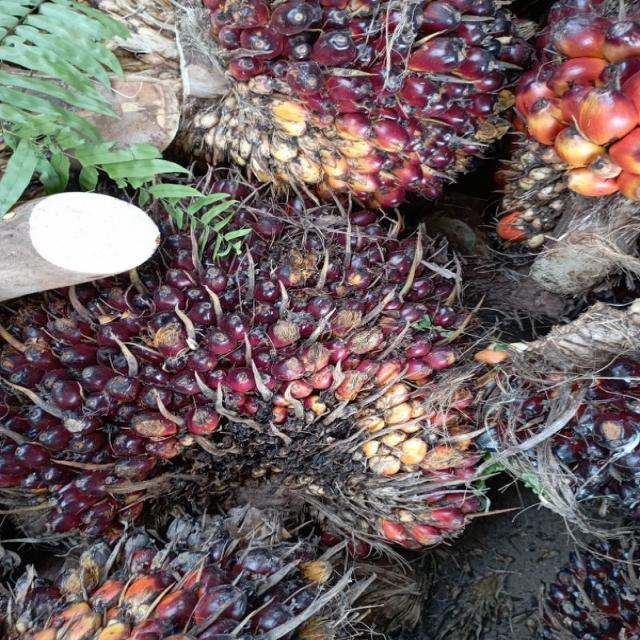fraksi 1: (0, 74, 512, 557)
